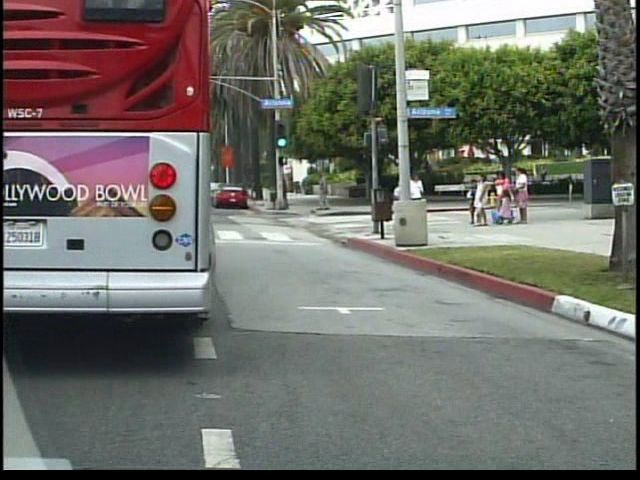person: (393, 162, 419, 240), (409, 169, 432, 231), (317, 169, 338, 215)
